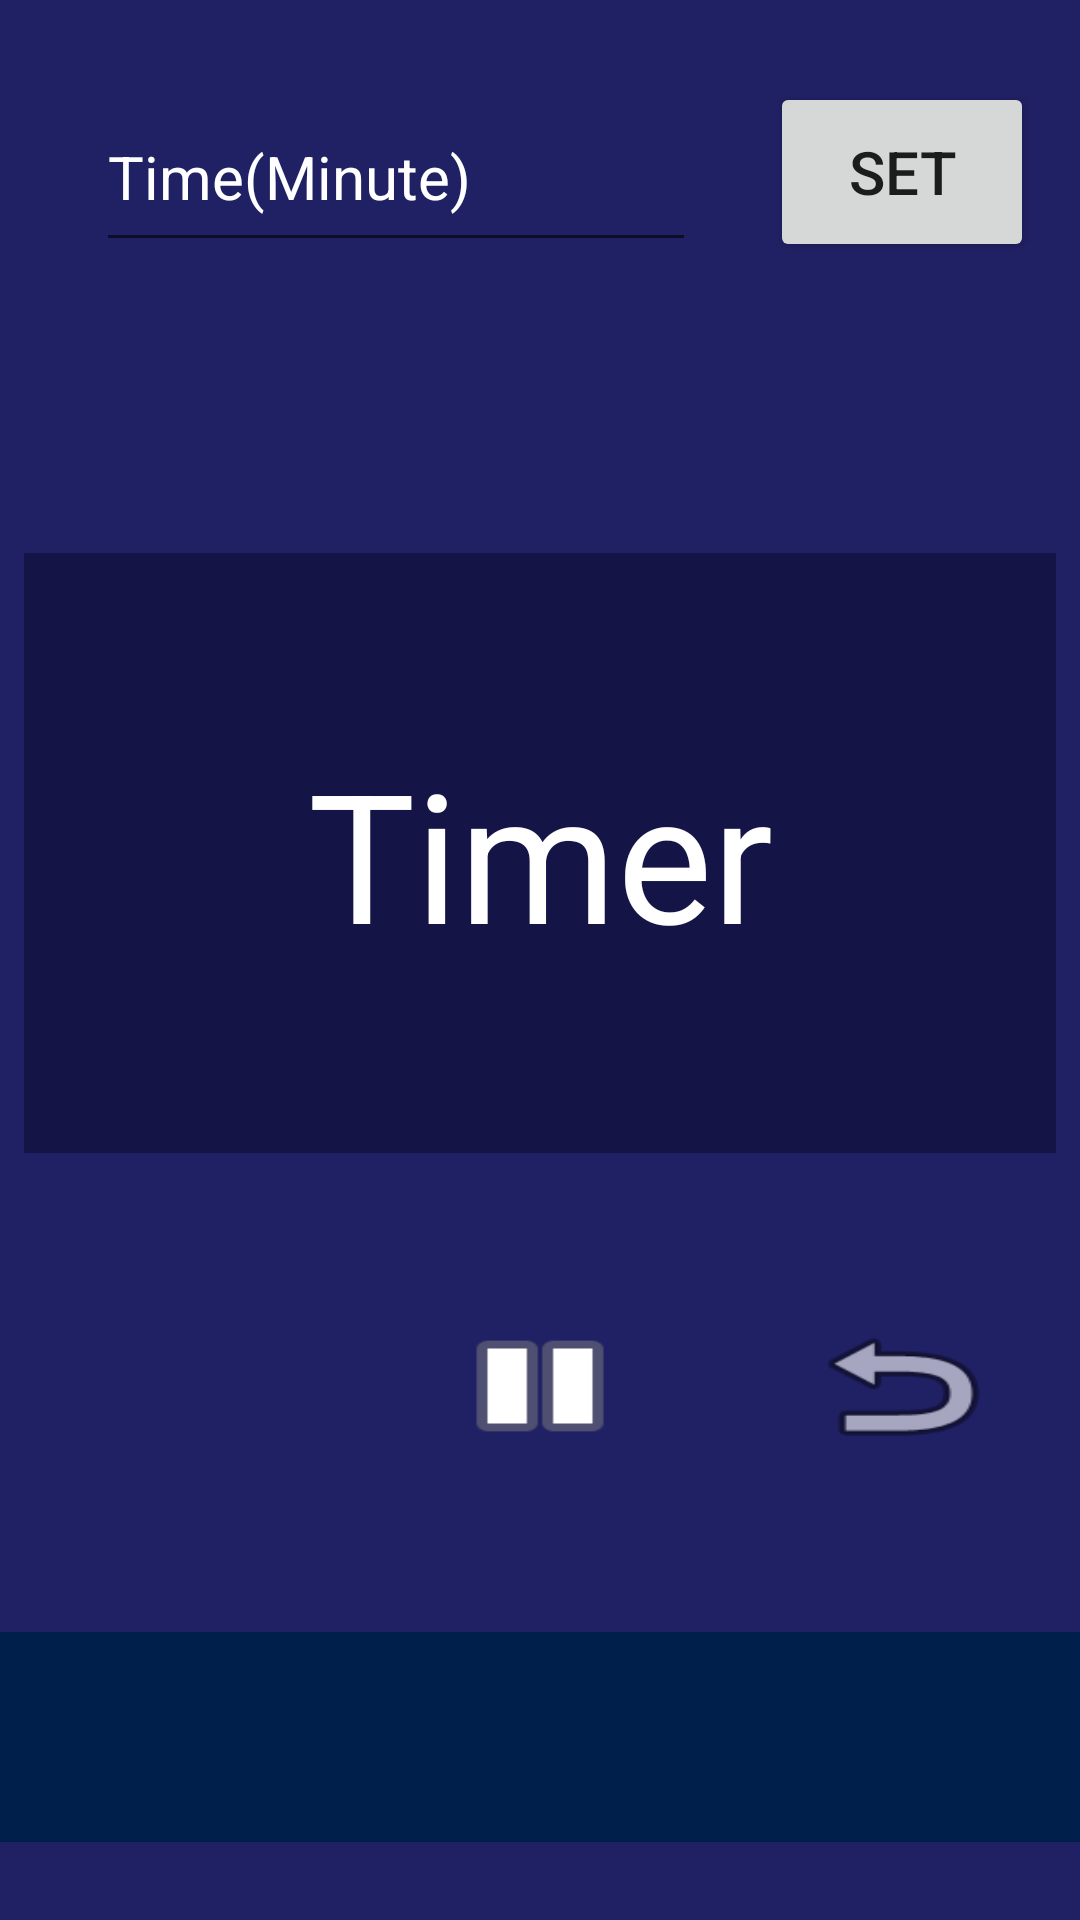

Screen size 1080 × 1920. Icon name, then its center in pixels as (x,y):
pause: (540,1386)
revert: (903,1387)
